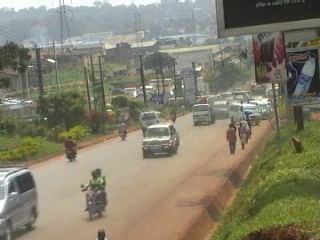Car: (0, 159, 43, 239), (140, 120, 181, 161), (212, 104, 229, 119)
Motorcycle: (78, 180, 109, 222), (62, 139, 77, 164), (118, 125, 126, 142), (169, 108, 177, 123)
